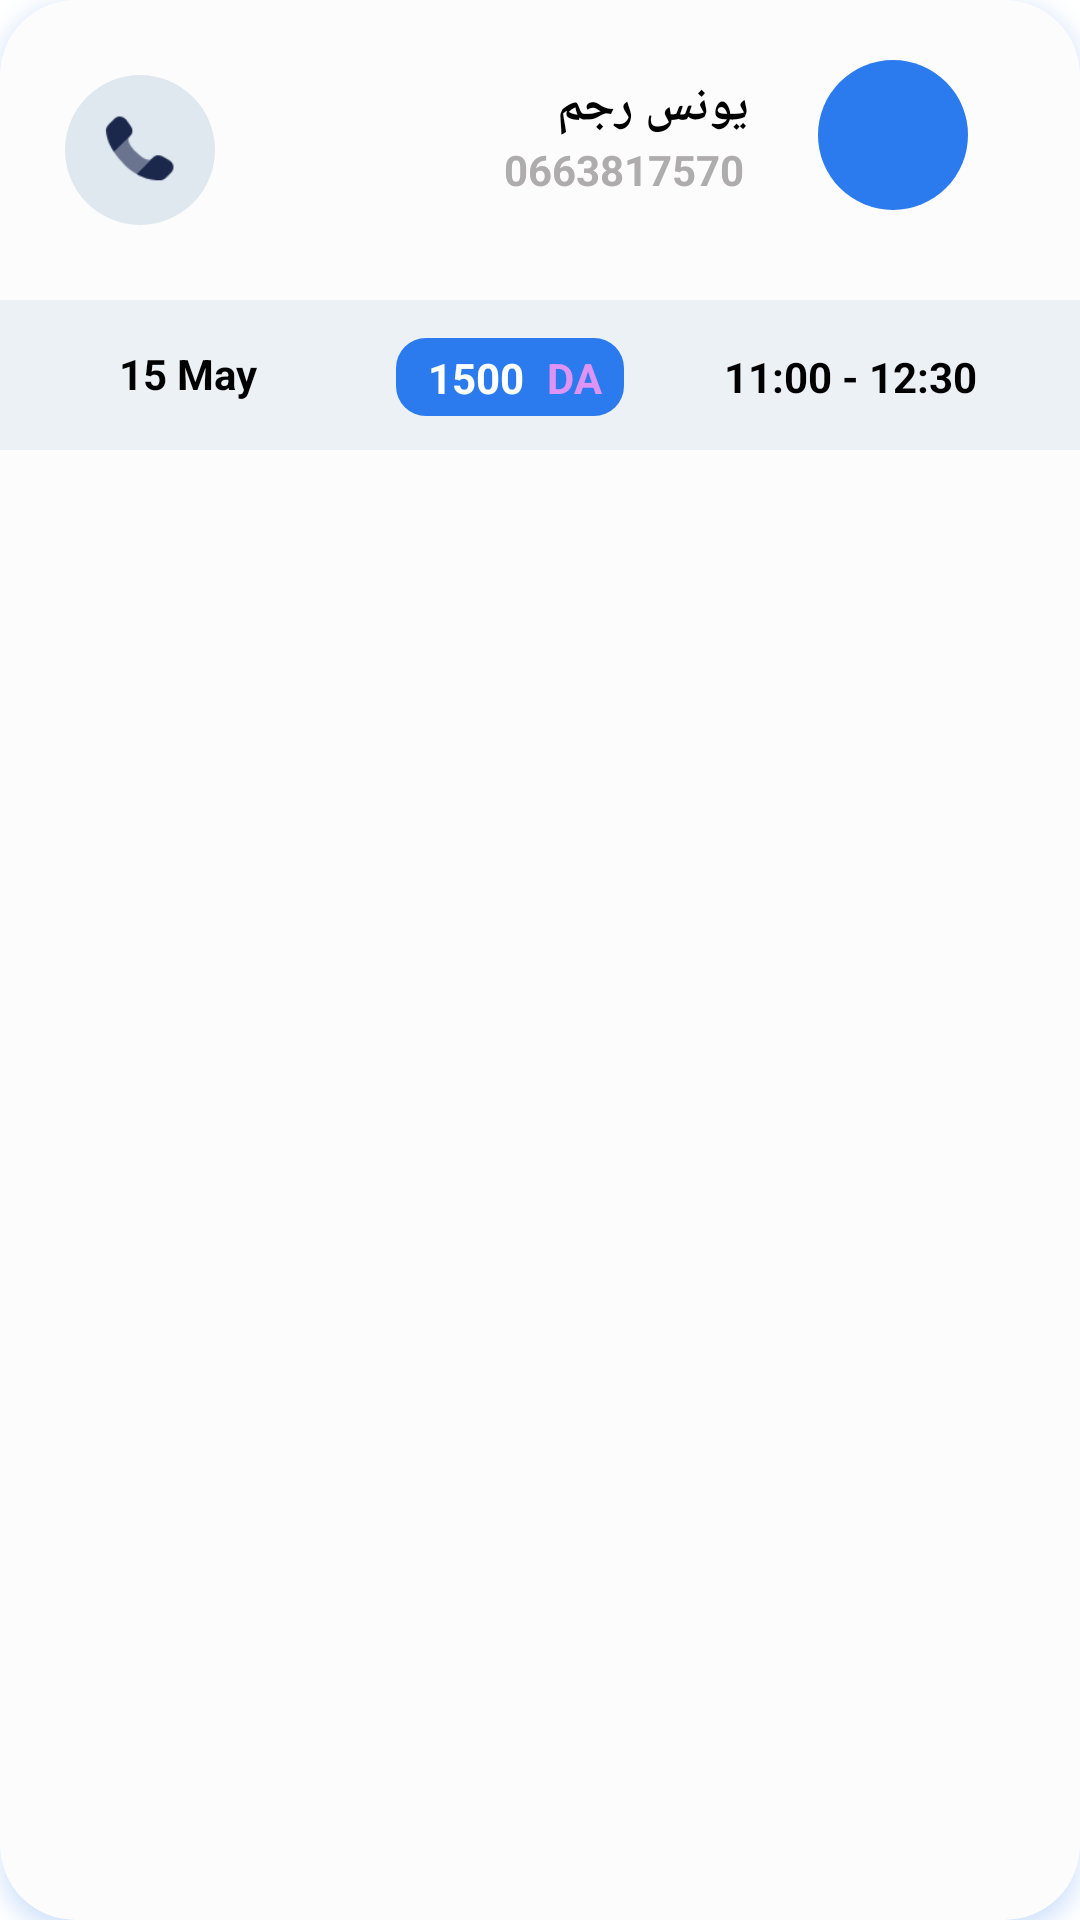

Point at icon controls on the screen. Image size 1080*1920, points as (x=x, y=y).
phone: (x=140, y=148)
